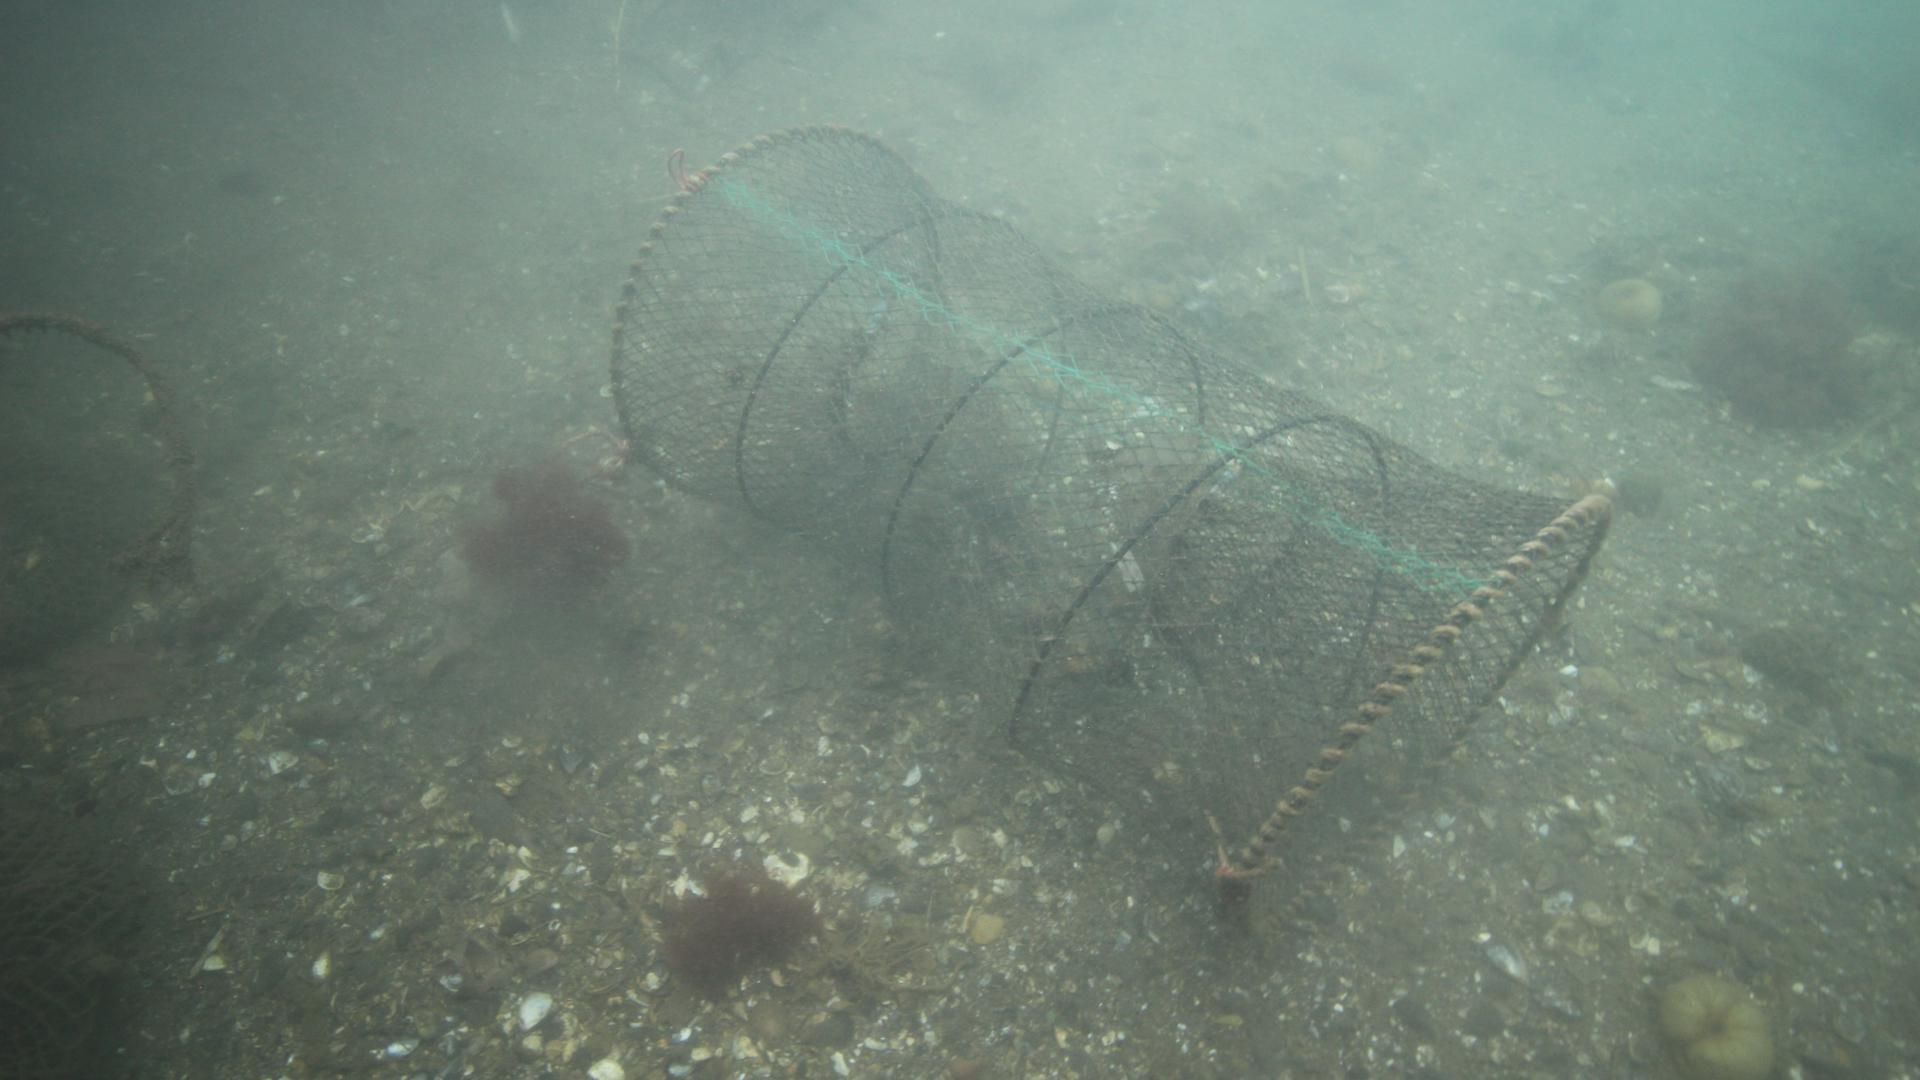spring fish trap: (603, 121, 1619, 952)
